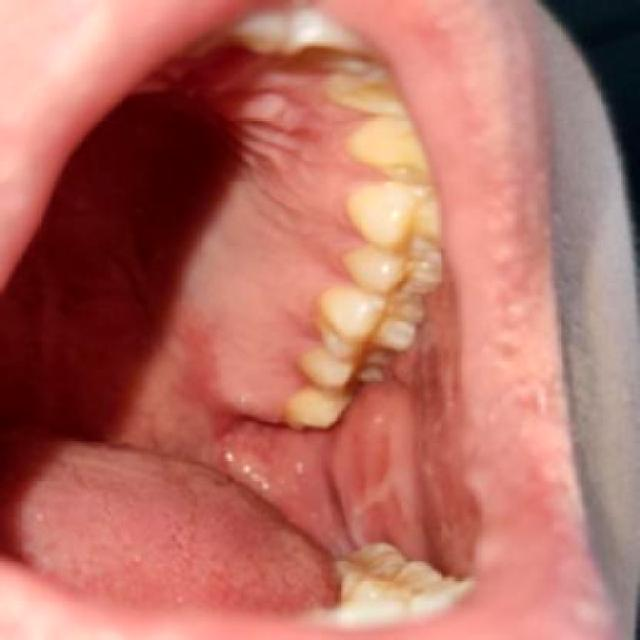Plaque: (286, 307, 320, 353), (323, 322, 356, 344)
